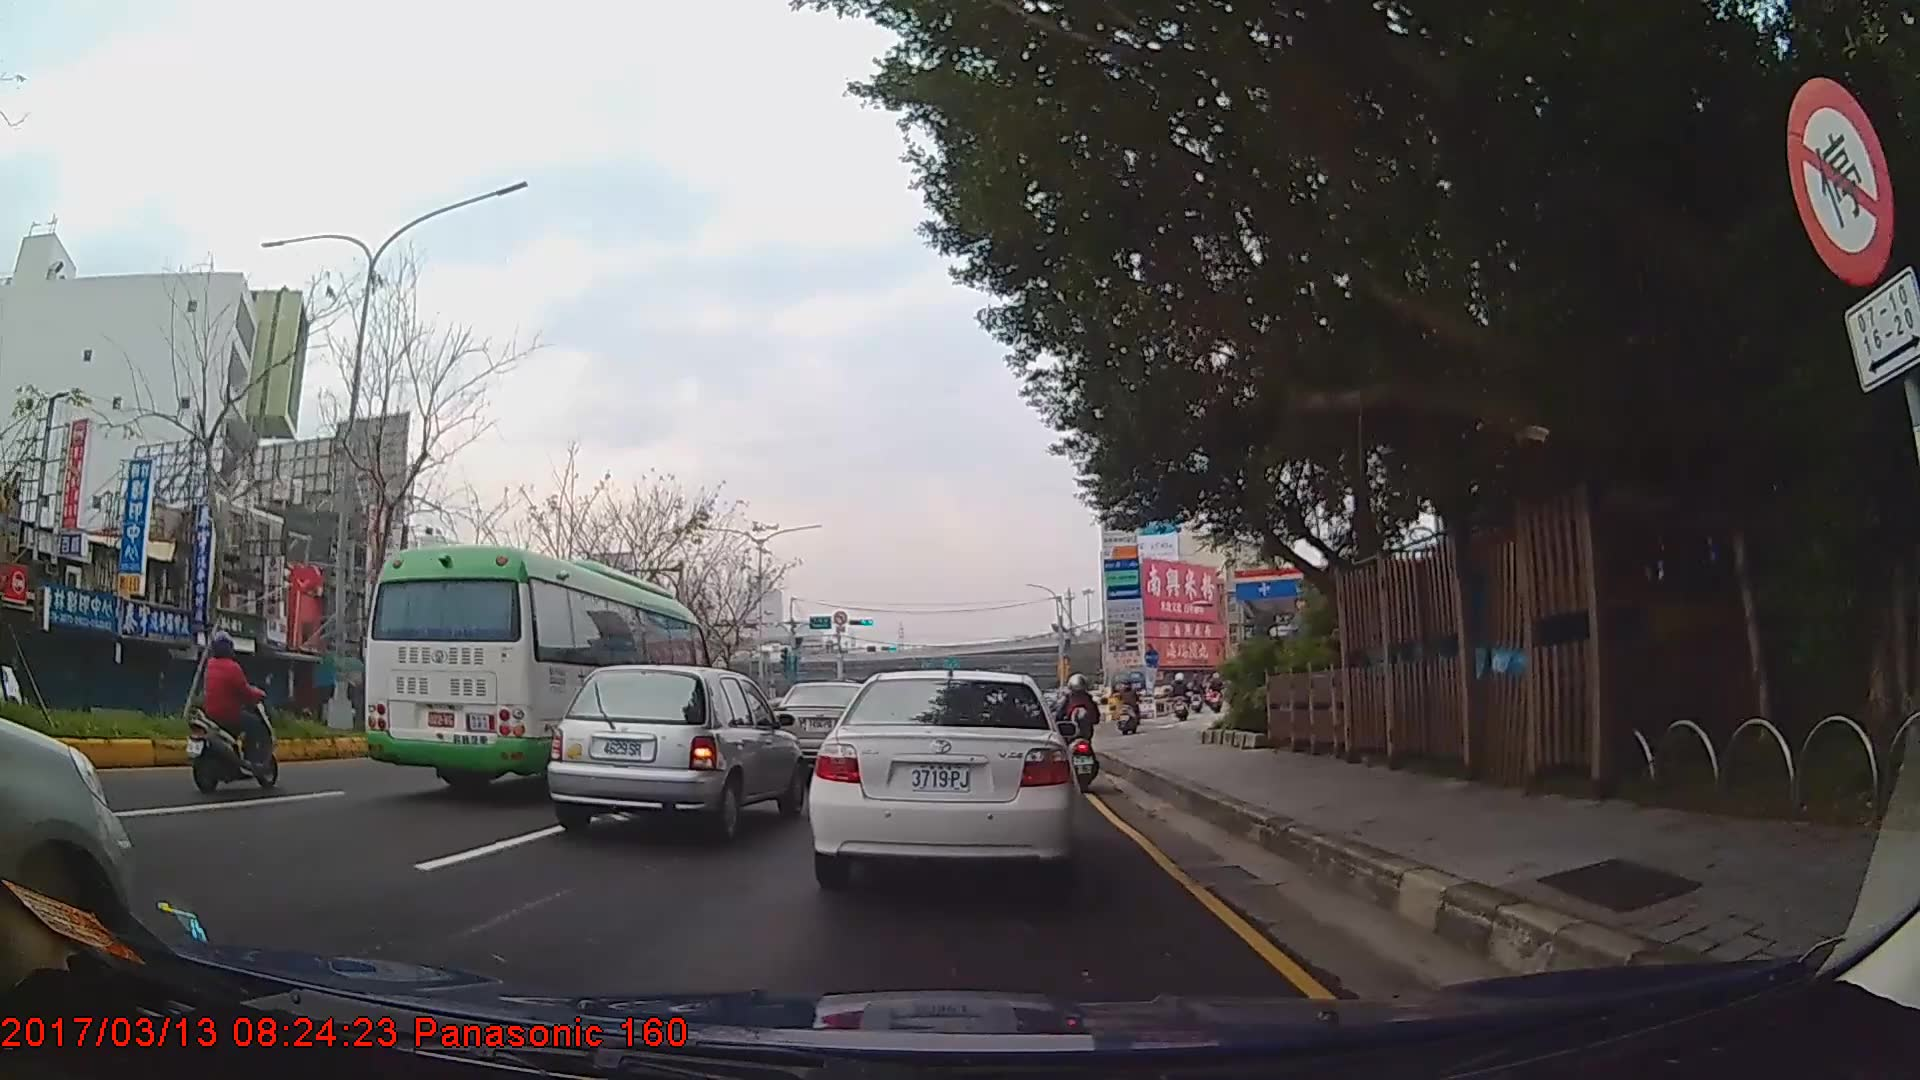rider: (187, 627, 284, 795), (1060, 673, 1099, 789), (1119, 679, 1142, 736), (1171, 671, 1191, 721)
vehicle: (361, 542, 712, 797), (805, 668, 1083, 894), (546, 661, 807, 840), (772, 681, 889, 777)
